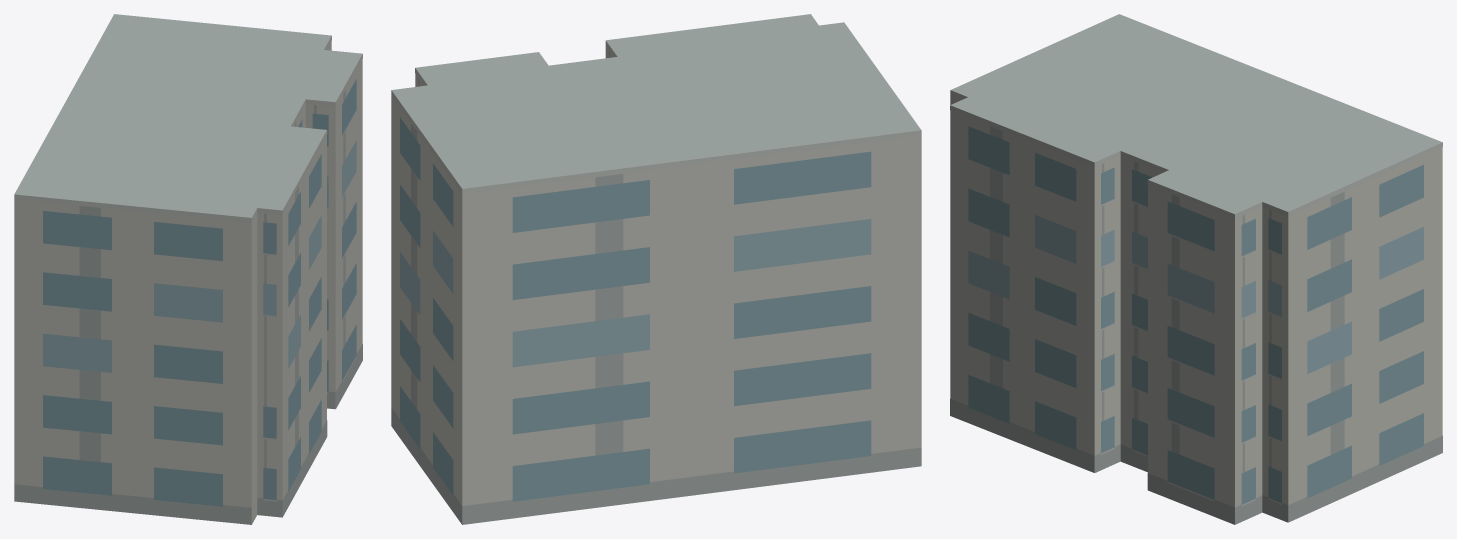
File: residential-361ec583-fa67-4455-b48a-872c742e3a01.glb
3 views of the same model, side by side, from view 1: azimuth 30°, elevation 25°; view 2: azimuth 150°, elevation 25°; view 3: azimuth 270°, elevation 25° (orthographic). The views are drawn at different scales.
Parts seen in each view (by area): view 1: residential-361ec583-fa67-4455-b48a-872c742e3a01.tmp; view 2: residential-361ec583-fa67-4455-b48a-872c742e3a01.tmp; view 3: residential-361ec583-fa67-4455-b48a-872c742e3a01.tmp.
Boxes of the visible parts, box(x1,y1,x2,y2) form: residential-361ec583-fa67-4455-b48a-872c742e3a01.tmp: box(14, 14, 362, 524); residential-361ec583-fa67-4455-b48a-872c742e3a01.tmp: box(391, 14, 921, 524); residential-361ec583-fa67-4455-b48a-872c742e3a01.tmp: box(950, 14, 1442, 524).
Bounding box in the file's own units: 21.09 × 15.25 × 21.93.
